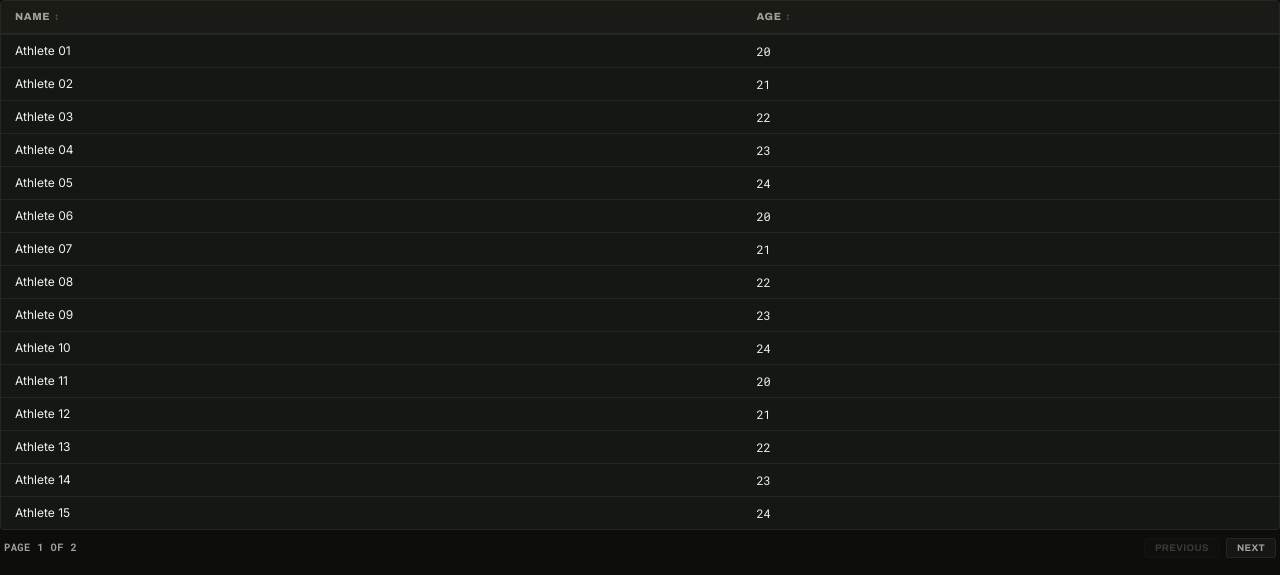
DataTable Component › disables Previous on first page and Next on last page correctly
Check: the button "PREVIOUS" is disabled, box [1144,538,1220,558]
Click the button "NEXT".
click(1251, 548)  # box [1226,538,1276,558]
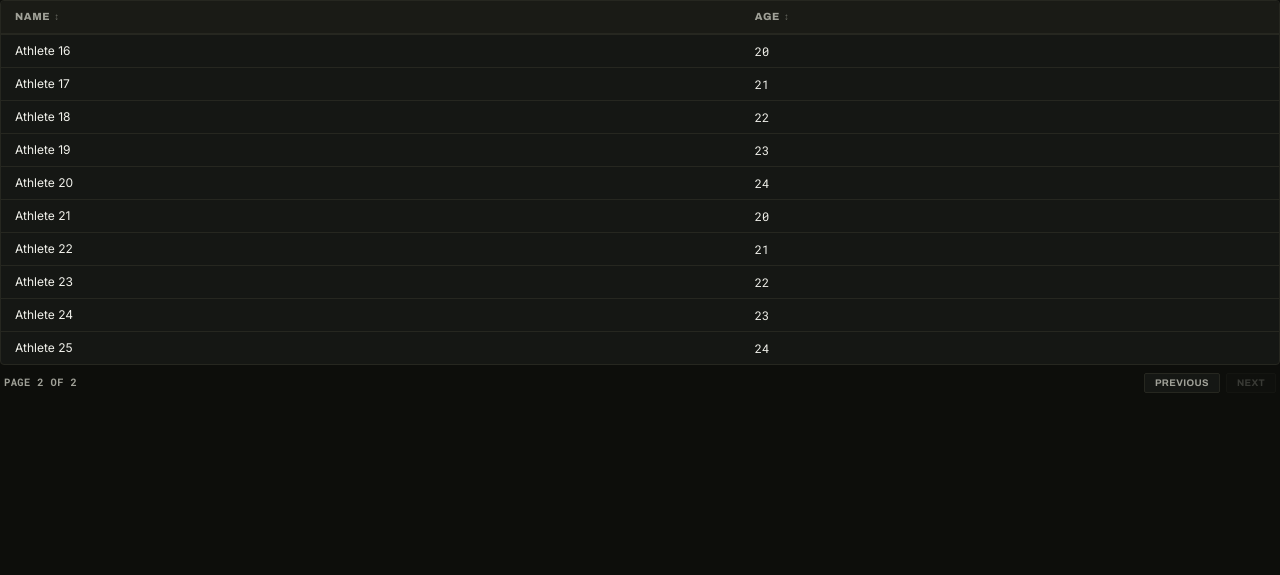
Check: the button "PREVIOUS" is enabled, box [1144,373,1220,393]
Check: the button "NEXT" is disabled, box [1226,373,1276,393]
